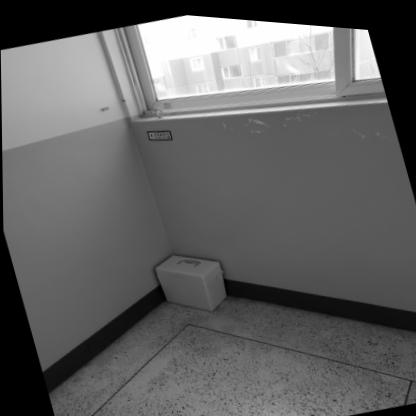DDL: (149, 238, 230, 320)
